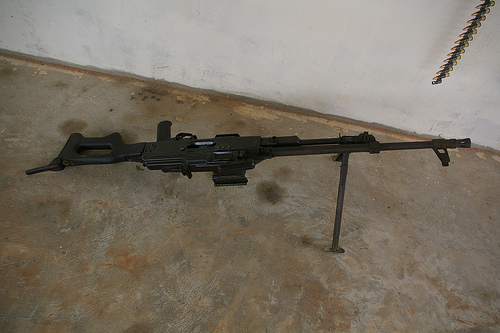rifle: (19, 80, 480, 270)
